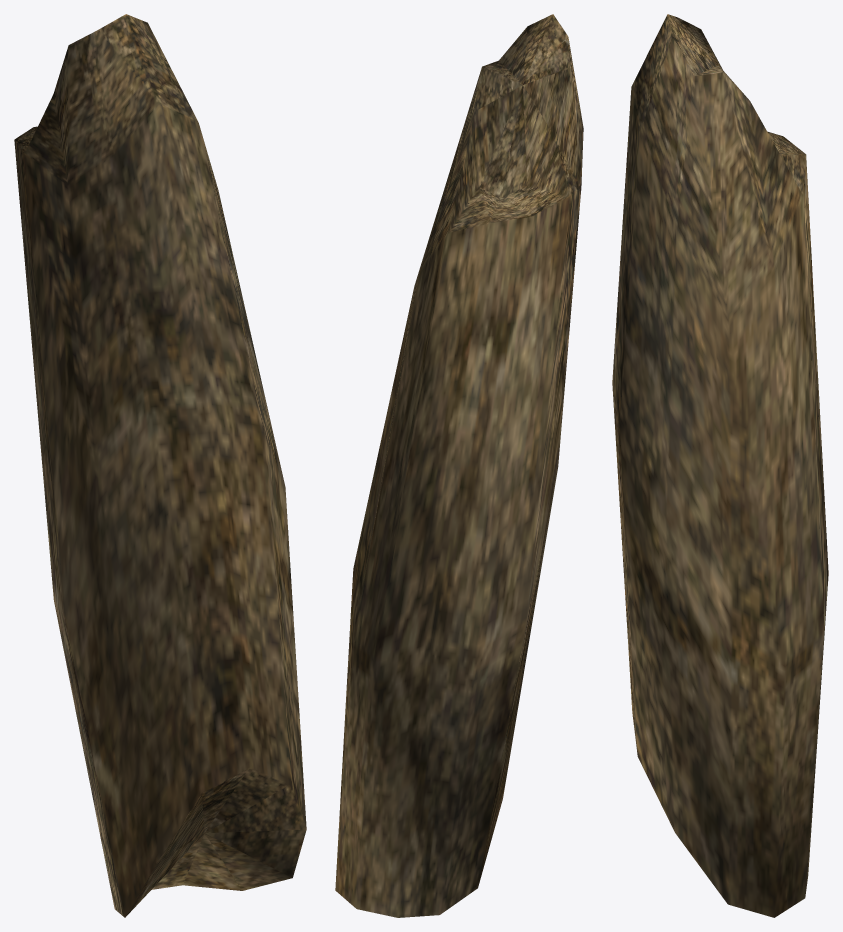
File: CH09_SMAUG_PLAYSURFACE_LONELYMOUNTAIN_LM_PLAYSURFACE35.fbx
3 views of the same model, side by side, from view 1: azimuth 30°, elevation 25°; view 2: azimuth 150°, elevation 25°; view 3: azimuth 270°, elevation 25° (orthographic). The views are drawn at different scales.
Visible parts, largest first — view 1: CH09_SMAUG_PLAYSURFACE_LONELYMOUNTAIN_LM_PLAYSURFACE35; view 2: CH09_SMAUG_PLAYSURFACE_LONELYMOUNTAIN_LM_PLAYSURFACE35; view 3: CH09_SMAUG_PLAYSURFACE_LONELYMOUNTAIN_LM_PLAYSURFACE35.
Part boxes in pixels (<box>): CH09_SMAUG_PLAYSURFACE_LONELYMOUNTAIN_LM_PLAYSURFACE35: <box>14,14,306,917</box>; CH09_SMAUG_PLAYSURFACE_LONELYMOUNTAIN_LM_PLAYSURFACE35: <box>335,14,583,917</box>; CH09_SMAUG_PLAYSURFACE_LONELYMOUNTAIN_LM_PLAYSURFACE35: <box>612,14,828,917</box>.
Size of the model in its own units: 21933 by 77354 by 18291.
Materials: 1 (1 with a texture image).
